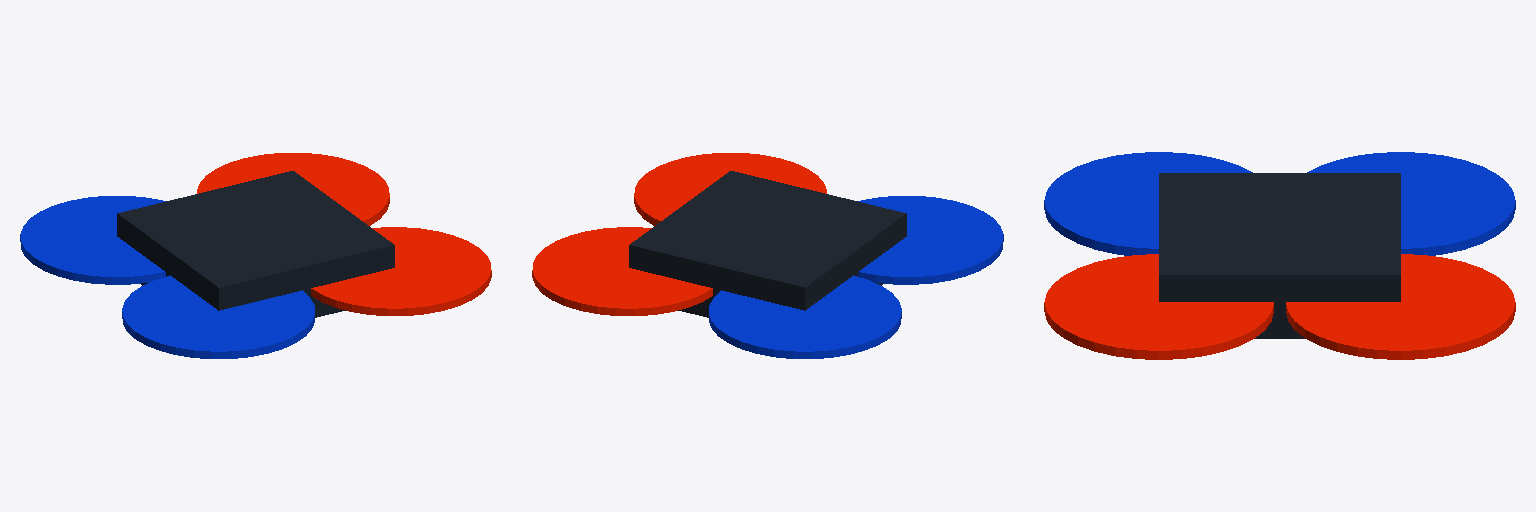
The robot description file, URDF, robot "heavy_quad":
<?xml version='1.0' encoding='utf-8'?>
<robot name="heavy_quad">
  <!-- Simulation baseline: 5 kg quad, 18 inch props, 30.656 N/rotor maximum. -->
  <properties arm="0.34" kf="3.7e-7" km="9.3e-10" thrust2weight="2.5" max_speed_kmh="120" prop_radius="0.2286" drag_coeff_xy="2.0e-6" drag_coeff_z="2.5e-6" dw_coeff_1="2267.18" dw_coeff_2=".16" dw_coeff_3="-.11" />
  <link name="base_link">
    <inertial>
      <origin rpy="0 0 0" xyz="0 0 0" />
      <mass value="5.0" />
      <inertia ixx="0.1032" ixy="0" ixz="0" iyy="0.1032" iyz="0" izz="0.1920" />
    </inertial>
    <visual>
      <origin rpy="0 0 0" xyz="0 0 0" />
      <geometry><box size="0.48 0.48 0.14" /></geometry>
      <material name="heavy_body"><color rgba="0.15 0.18 0.22 1" /></material>
    </visual>
    <collision>
      <origin rpy="0 0 0" xyz="0 0 0" />
      <geometry><box size="0.48 0.48 0.14" /></geometry>
    </collision>
  </link>
  <link name="prop0_link"><inertial><origin xyz="0.240416 0.240416 0"/><mass value="0"/><inertia ixx="0" ixy="0" ixz="0" iyy="0" iyz="0" izz="0"/></inertial><visual><origin xyz="0.240416 0.240416 0"/><geometry><cylinder radius="0.2286" length="0.02"/></geometry><material name="prop_a"><color rgba="1 0.18 0.02 0.75"/></material></visual></link>
  <joint name="prop0_joint" type="fixed"><parent link="base_link"/><child link="prop0_link"/></joint>
  <link name="prop1_link"><inertial><origin xyz="-0.240416 0.240416 0"/><mass value="0"/><inertia ixx="0" ixy="0" ixz="0" iyy="0" iyz="0" izz="0"/></inertial><visual><origin xyz="-0.240416 0.240416 0"/><geometry><cylinder radius="0.2286" length="0.02"/></geometry><material name="prop_b"><color rgba="0.05 0.3 0.9 0.75"/></material></visual></link>
  <joint name="prop1_joint" type="fixed"><parent link="base_link"/><child link="prop1_link"/></joint>
  <link name="prop2_link"><inertial><origin xyz="-0.240416 -0.240416 0"/><mass value="0"/><inertia ixx="0" ixy="0" ixz="0" iyy="0" iyz="0" izz="0"/></inertial><visual><origin xyz="-0.240416 -0.240416 0"/><geometry><cylinder radius="0.2286" length="0.02"/></geometry><material name="prop_b2"><color rgba="0.05 0.3 0.9 0.75"/></material></visual></link>
  <joint name="prop2_joint" type="fixed"><parent link="base_link"/><child link="prop2_link"/></joint>
  <link name="prop3_link"><inertial><origin xyz="0.240416 -0.240416 0"/><mass value="0"/><inertia ixx="0" ixy="0" ixz="0" iyy="0" iyz="0" izz="0"/></inertial><visual><origin xyz="0.240416 -0.240416 0"/><geometry><cylinder radius="0.2286" length="0.02"/></geometry><material name="prop_a2"><color rgba="1 0.18 0.02 0.75"/></material></visual></link>
  <joint name="prop3_joint" type="fixed"><parent link="base_link"/><child link="prop3_link"/></joint>
  <link name="center_of_mass_link"><inertial><origin xyz="0 0 0"/><mass value="0"/><inertia ixx="0" ixy="0" ixz="0" iyy="0" iyz="0" izz="0"/></inertial></link>
  <joint name="center_of_mass_joint" type="fixed"><parent link="base_link"/><child link="center_of_mass_link"/></joint>
</robot>

--- What the picture shows (computed from the rendered views, not written in the file) ---
3 views of the same robot in one strip: view 1: azimuth 30°, elevation 25°; view 2: azimuth 150°, elevation 25°; view 3: azimuth 270°, elevation 25° (orthographic).
Model heavy_quad with 6 links and 5 joints (5 fixed), rooted at base_link, posed every joint at zero.
Visible links, largest first — view 1: base_link, prop2_link, prop3_link, prop1_link, prop0_link; view 2: base_link, prop1_link, prop0_link, prop2_link, prop3_link; view 3: base_link, prop0_link, prop3_link, prop1_link, prop2_link.
Boxes of the visible links, x1,y1,x2,y2 form: base_link: [117, 171, 394, 317]; prop2_link: [122, 275, 314, 358]; prop3_link: [311, 227, 491, 315]; prop1_link: [20, 196, 165, 284]; prop0_link: [197, 153, 389, 225]; base_link: [629, 171, 906, 317]; prop1_link: [709, 275, 901, 358]; prop0_link: [532, 227, 712, 315]; prop2_link: [858, 196, 1003, 284]; prop3_link: [634, 153, 826, 225]; base_link: [1159, 173, 1400, 338]; prop0_link: [1286, 254, 1515, 359]; prop3_link: [1044, 254, 1273, 359]; prop1_link: [1307, 152, 1515, 255]; prop2_link: [1044, 152, 1252, 255].
Size in the robot's own frame: 0.938 by 0.938 by 0.14 metres.
Geometry: primitives only (box / cylinder / sphere), no mesh files.
